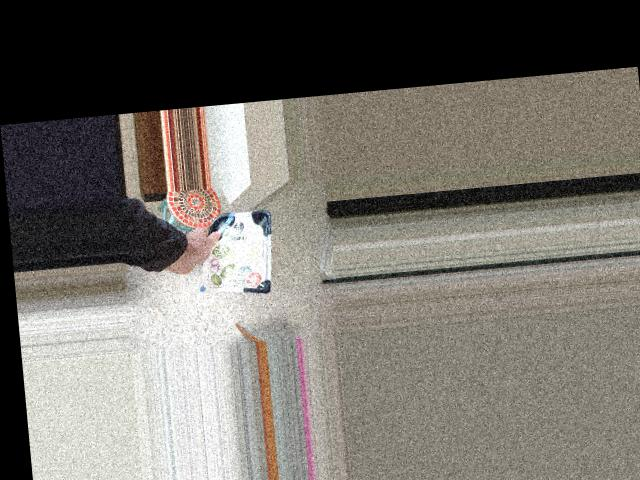cheese: (168, 211, 260, 301)
